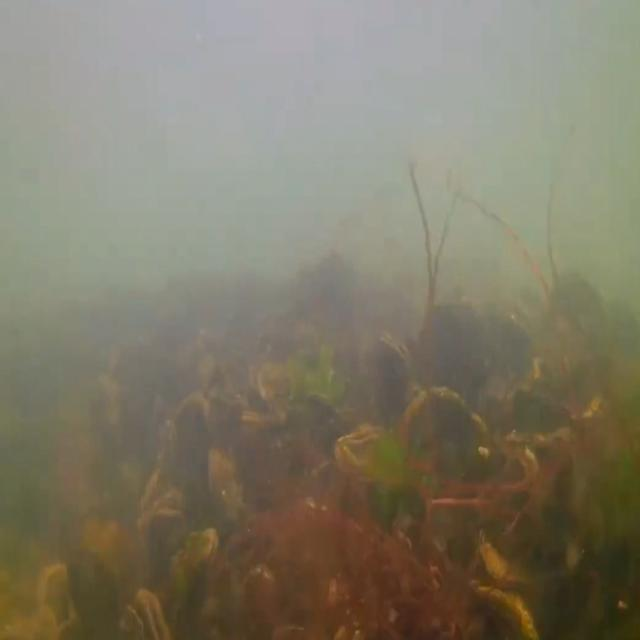Oyster-Closed: (378, 328, 417, 433), (165, 527, 221, 591), (332, 422, 393, 478), (239, 407, 286, 439)
Oyster-Indeterminate: (396, 385, 501, 499), (170, 394, 214, 512), (467, 576, 539, 638), (142, 414, 179, 518), (476, 527, 538, 584), (306, 386, 356, 446), (208, 445, 242, 531), (136, 488, 184, 536)
Oyster-Open: (118, 588, 171, 640)
